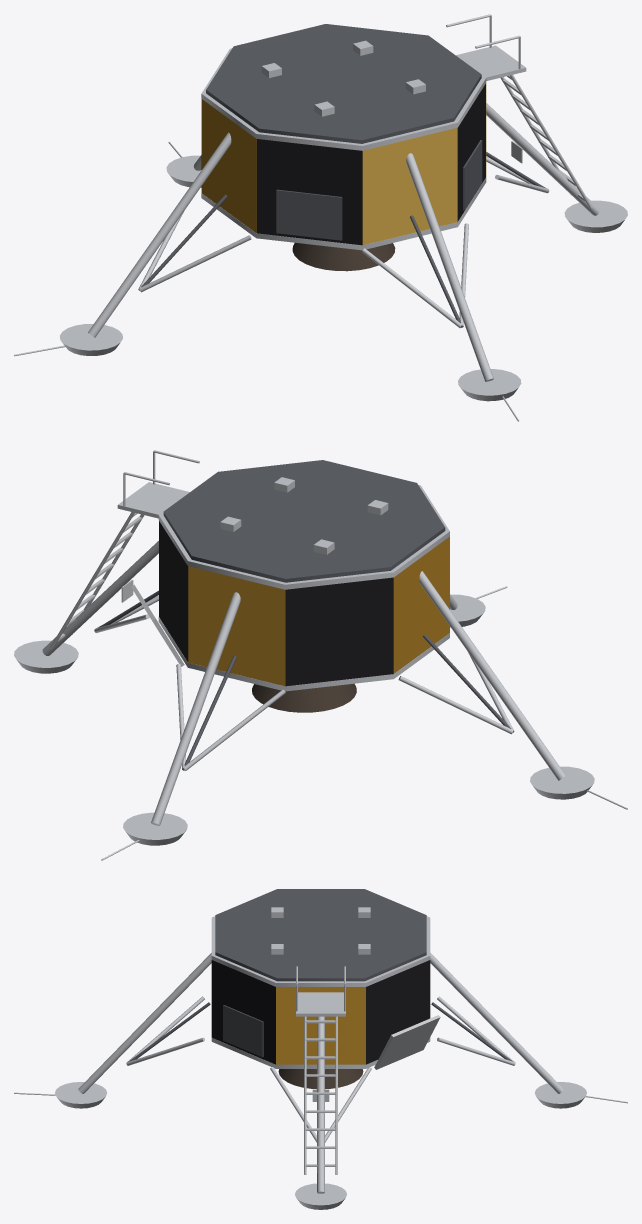
Rendered from apollo11_lm.glb.
3 renders of one model, top to bottom at view 1: azimuth 30°, elevation 25°; view 2: azimuth 150°, elevation 25°; view 3: azimuth 270°, elevation 25°, orthographic. The views are drawn at different scales.
Visible parts, largest first — view 1: TopDeck, Facet_2, Facet_3, Facet_4, ScienceBay_1, BandTop, Leg_Primary_1, Leg_Primary_2, EngineBell, Facet_1, BandBottom, Leg_Pad_1 (+9 smaller); view 2: TopDeck, Facet_5, Facet_6, Facet_4, Facet_7, BandTop, Leg_Primary_3, Leg_Primary_2, EngineBell, BandBottom, Leg_Pad_3, Leg_Pad_2 (+7 smaller); view 3: TopDeck, Facet_0, Facet_7, Facet_1, BandTop, Mesa, ScienceBay_0, Leg_Primary_1, Leg_Primary_3, Leg_Primary_0, Porch, EngineBell (+6 smaller).
Boxes of the visible parts, x1=… form: TopDeck: x1=206, y1=24, x2=481, y2=143; Facet_2: x1=362, y1=127, x2=457, y2=245; Facet_3: x1=256, y1=139, x2=362, y2=245; Facet_4: x1=202, y1=99, x2=256, y2=232; ScienceBay_1: x1=276, y1=189, x2=342, y2=240; BandTop: x1=201, y1=48, x2=486, y2=150; Leg_Primary_1: x1=406, y1=153, x2=493, y2=381; Leg_Primary_2: x1=88, y1=132, x2=231, y2=337; EngineBell: x1=292, y1=242, x2=395, y2=271; Facet_1: x1=457, y1=84, x2=485, y2=221; BandBottom: x1=201, y1=177, x2=486, y2=250; Leg_Pad_1: x1=458, y1=369, x2=521, y2=401; TopDeck: x1=163, y1=460, x2=445, y2=582; Facet_5: x1=285, y1=577, x2=393, y2=686; Facet_6: x1=188, y1=566, x2=285, y2=686; Facet_4: x1=393, y1=536, x2=449, y2=673; Facet_7: x1=159, y1=521, x2=188, y2=662; BandTop: x1=158, y1=485, x2=449, y2=589; Leg_Primary_3: x1=151, y1=592, x2=240, y2=825; Leg_Primary_2: x1=419, y1=571, x2=565, y2=780; EngineBell: x1=252, y1=683, x2=356, y2=712; BandBottom: x1=158, y1=617, x2=449, y2=691; Leg_Pad_3: x1=123, y1=812, x2=187, y2=845; Leg_Pad_2: x1=530, y1=766, x2=594, y2=799; TopDeck: x1=215, y1=889, x2=426, y2=981; Facet_0: x1=276, y1=987, x2=365, y2=1064; Facet_7: x1=366, y1=960, x2=430, y2=1064; Facet_1: x1=211, y1=960, x2=275, y2=1064; BandTop: x1=211, y1=916, x2=430, y2=986; Mesa: x1=374, y1=1015, x2=440, y2=1069; ScienceBay_0: x1=223, y1=1005, x2=263, y2=1057; Leg_Primary_1: x1=78, y1=953, x2=211, y2=1093; Leg_Primary_3: x1=430, y1=953, x2=563, y2=1093; Leg_Primary_0: x1=317, y1=1016, x2=324, y2=1193; Porch: x1=296, y1=992, x2=345, y2=1016; EngineBell: x1=278, y1=1069, x2=363, y2=1088.
Size of the model in its own units: 10.27 by 3.57 by 11.01.
